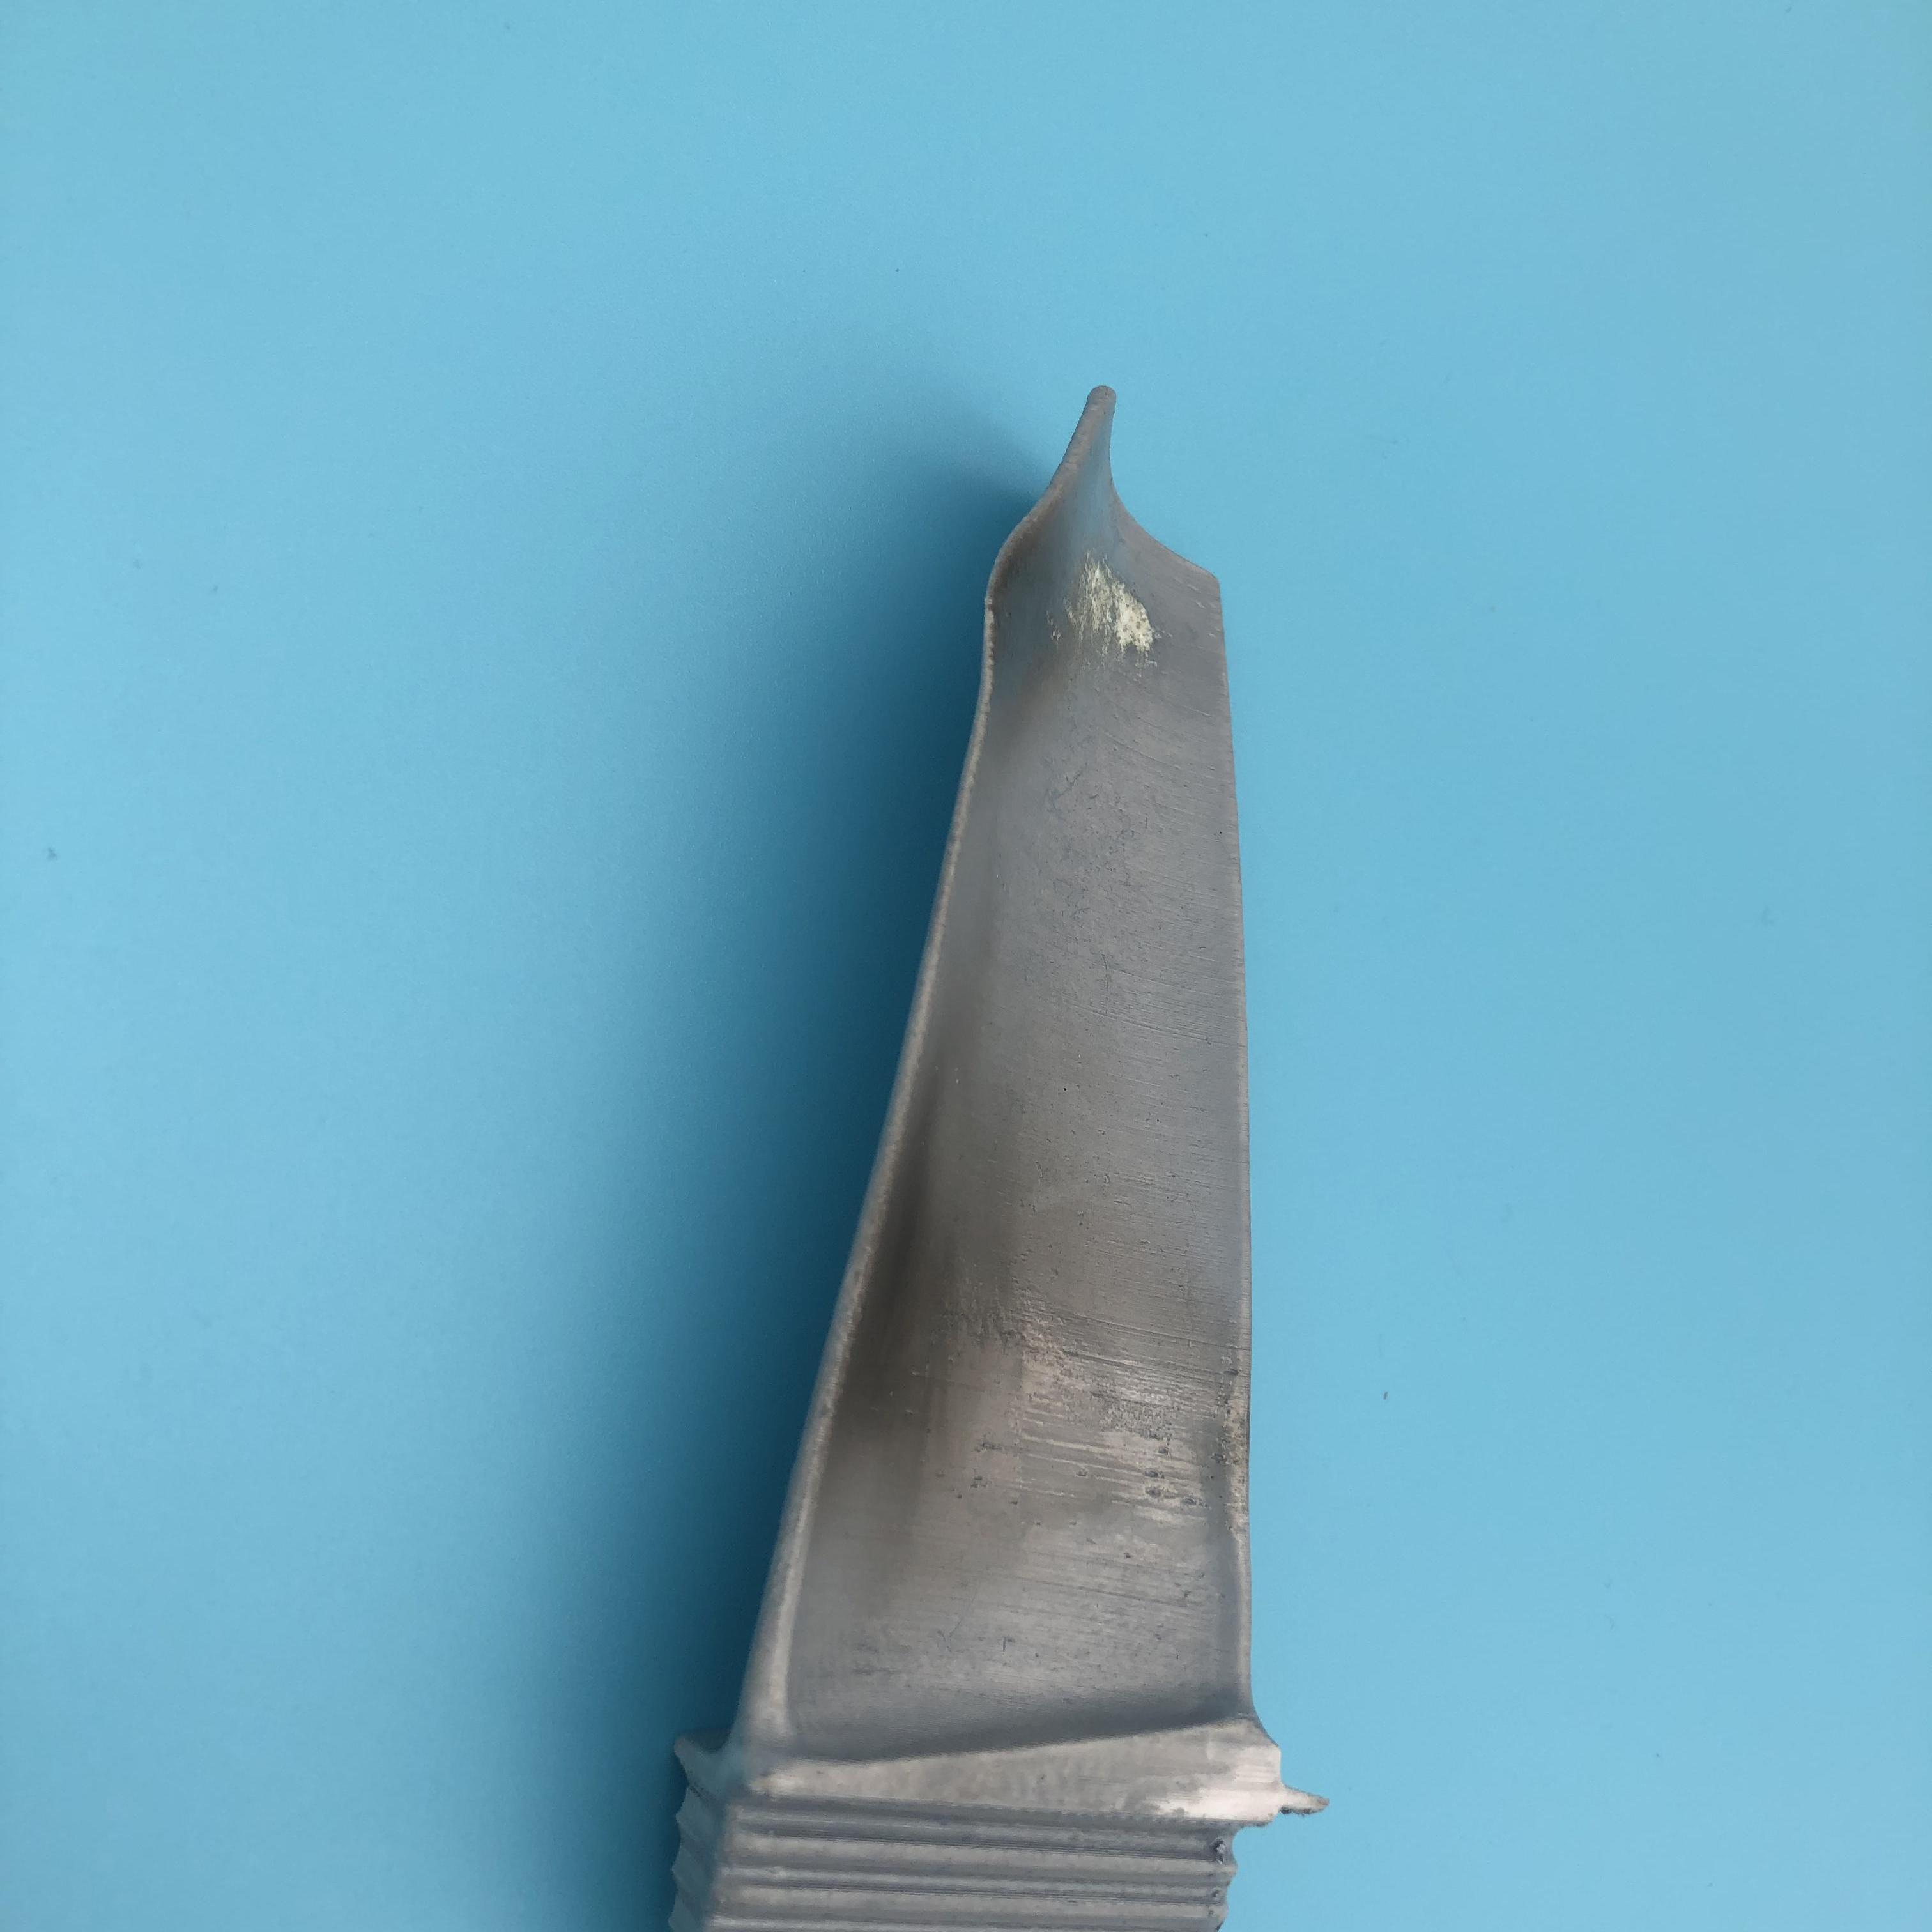ablation: (865, 1164, 1189, 1513), (989, 533, 1185, 715)
